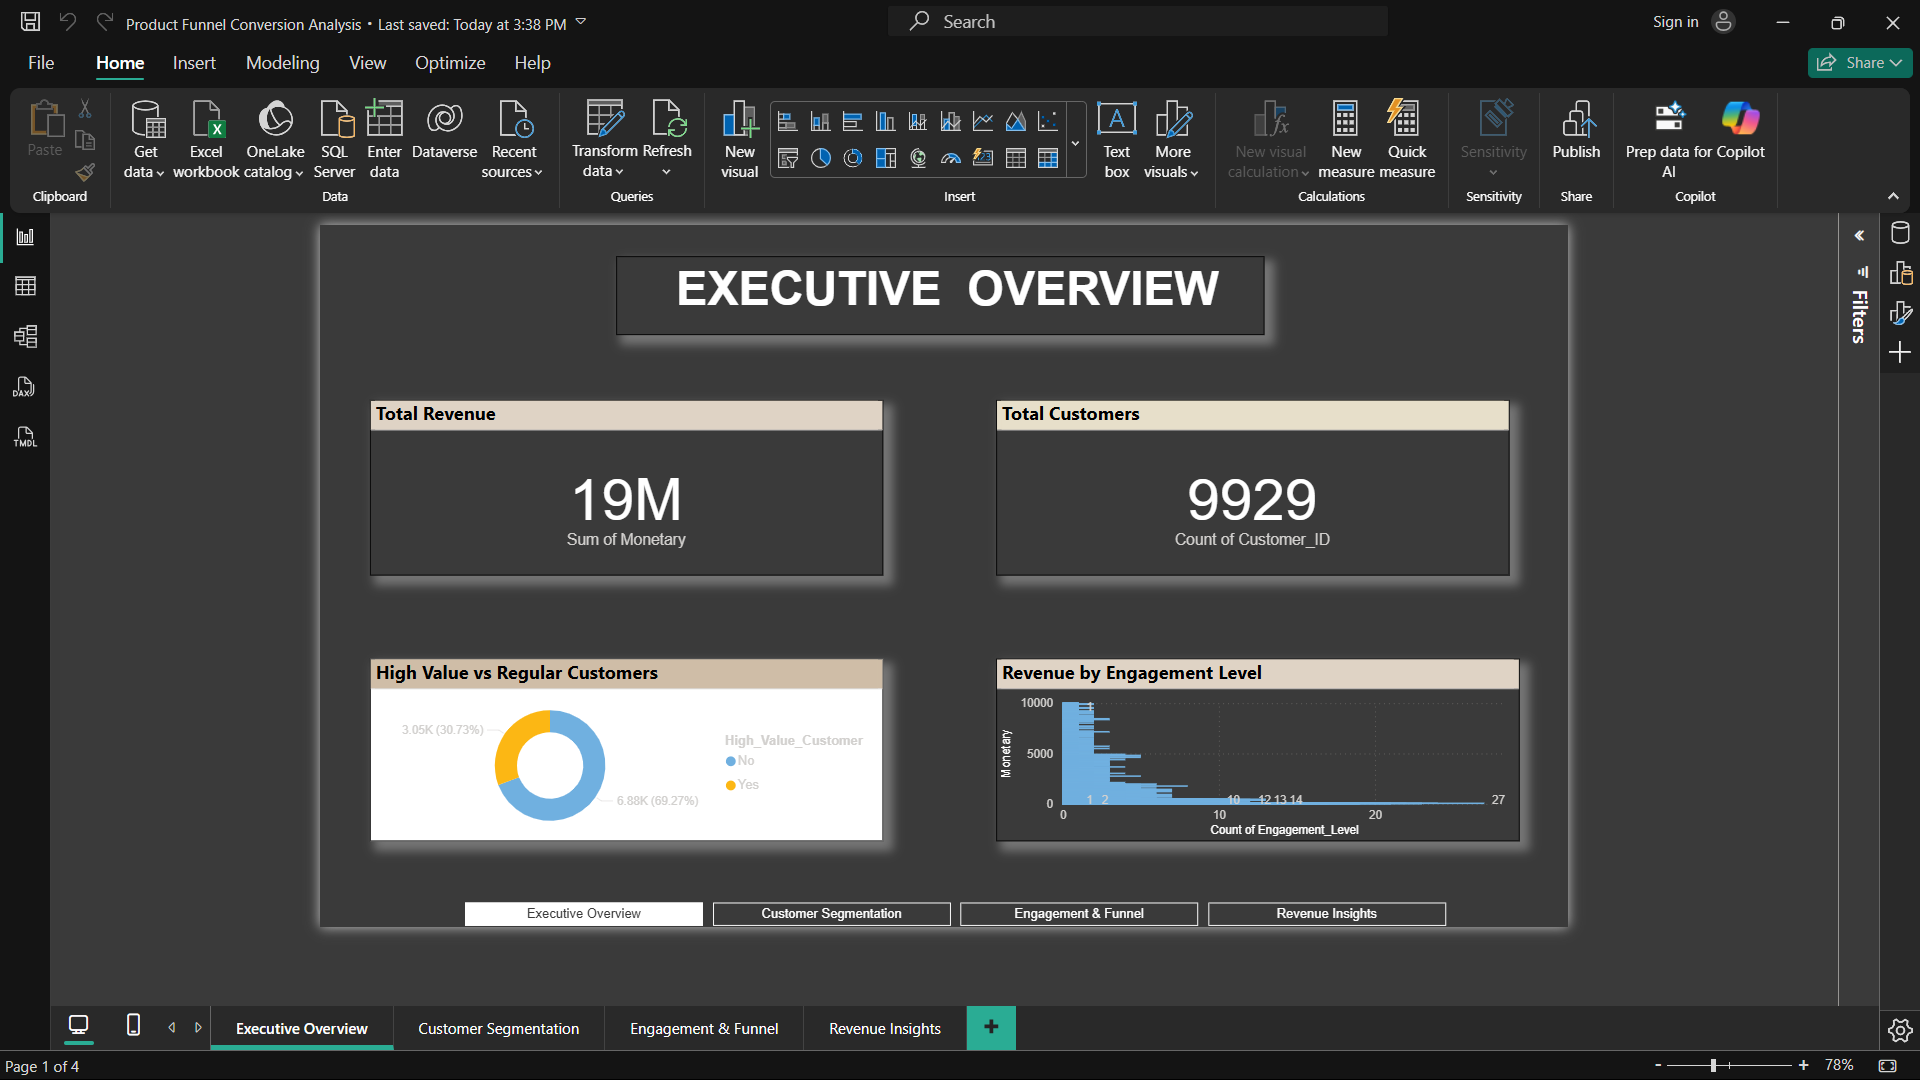

The dashboard page shown, as its layout file describes it:
{"tool":"powerbi","page":{"name":"Executive Overview","canvas":[1280,720],"ordinal":0},"visuals":[{"type":"card","title":"Total Revenue\n","fields":{"Values":["Sum(cleaned_ecommerce_data.Monetary)"]},"box":[51,179.2,526.3,180.3],"z":0},{"type":"card","title":"Total Customers\n","fields":{"Values":["CountNonNull(cleaned_ecommerce_data.Customer_ID)"]},"box":[693,179.2,526.3,180.3],"z":1},{"type":"donutChart","title":"High Value vs Regular Customers","fields":{"Category":["cleaned_ecommerce_data.High_Value_Customer"],"Y":["CountNonNull(cleaned_ecommerce_data.Customer_ID)"]},"box":[51,444.6,526.3,187.1],"z":2},{"type":"clusteredBarChart","title":"Revenue by Engagement Level","fields":{"Y":["CountNonNull(cleaned_ecommerce_data.Engagement_Level)"],"Category":["cleaned_ecommerce_data.Monetary"]},"box":[693,444.6,536.5,187.1],"z":3},{"type":"textbox","box":[304.4,31.7,665.1,80.8],"z":4},{"type":"pageNavigator","box":[148.6,695.3,1009.5,25],"z":5}]}

Visuals, with their boxes on the page's 1280x720 design canvas (x1, y1, x2, y2). These are canvas units, not pixel positions in the 1920x1080 screenshot, which may show the page scaled, cropped or inside an application window:
"Total Revenue
" card: 51, 179, 577, 360
"Total Customers
" card: 693, 179, 1219, 360
"High Value vs Regular Customers" donutChart: 51, 445, 577, 632
"Revenue by Engagement Level" clusteredBarChart: 693, 445, 1230, 632
textbox: 304, 32, 970, 112
pageNavigator: 149, 695, 1158, 720
